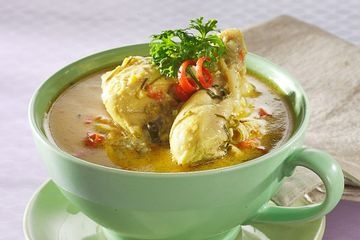gulai_ayam: (40, 52, 300, 168)
